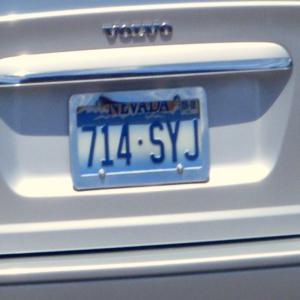Vehicle-registration-plate: (68, 81, 214, 191)
